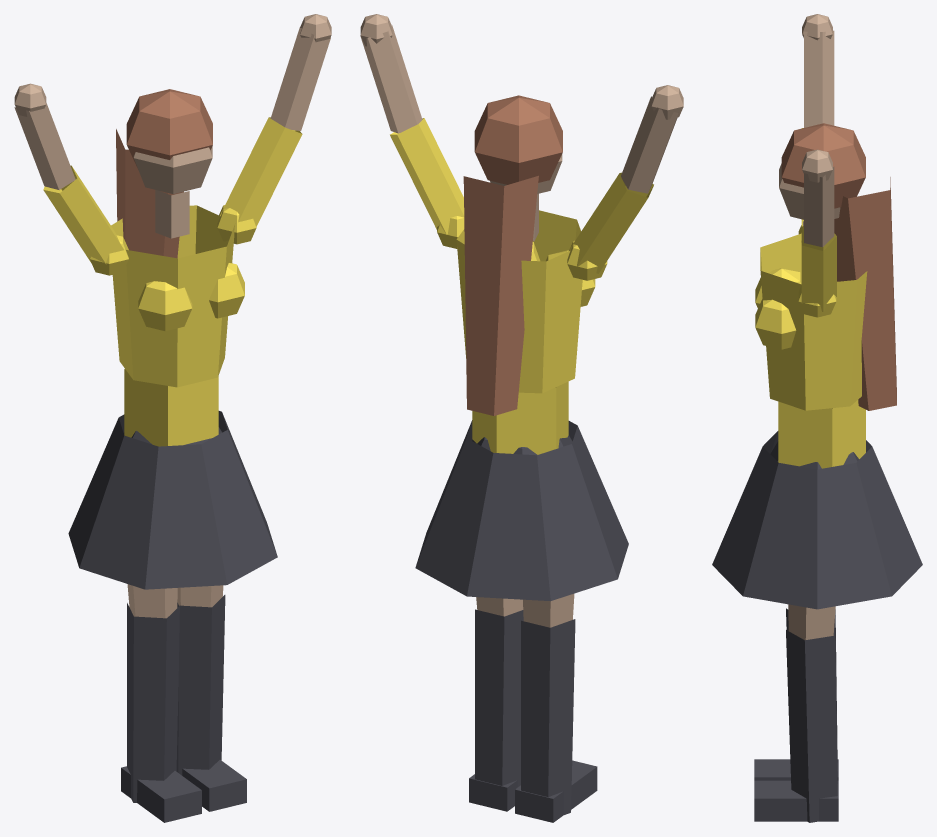
File: angel_cheer.glb
The picture shows the model from 3 angles, left to right: view 1: azimuth 30°, elevation 25°; view 2: azimuth 150°, elevation 25°; view 3: azimuth 270°, elevation 25°; orthographic projection. The views are drawn at different scales.
Parts seen in each view (by area): view 1: angel_cheer; view 2: angel_cheer; view 3: angel_cheer.
Part boxes in pixels (bbox=[...]): angel_cheer: bbox=[14, 14, 331, 822]; angel_cheer: bbox=[360, 14, 683, 822]; angel_cheer: bbox=[712, 14, 922, 822].
Size of the model in its own units: 0.8018 by 1.79 by 0.475.
